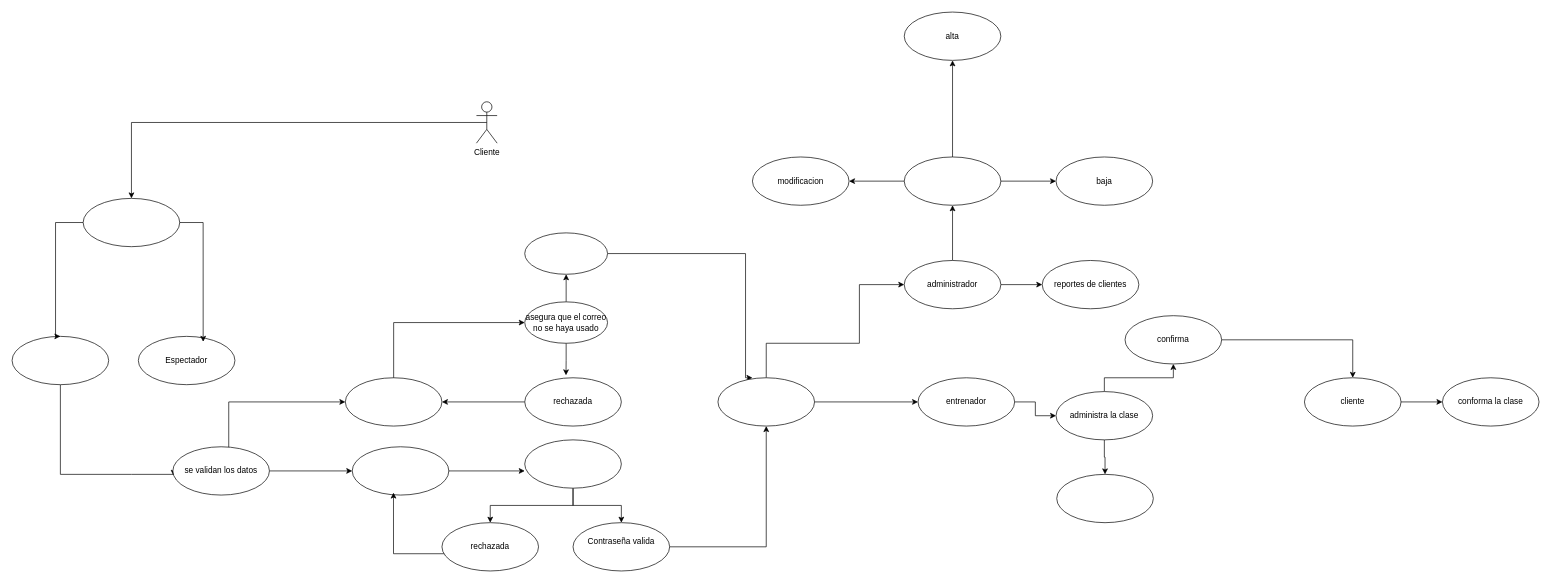
Some shapes in this 1551 by 583 pixel diagram are drawn without their labels. Here are the shapes that lost their labels. From the top down, the centre of each, then its label:
[952,180]: gentiona al cliente
[131,222]: Plataforma
[566,253]: confirma el correo
[60,360]: Registra en el sistema
[393,401]: paso1 correo electronico
[766,401]: confirmacion de datos
[400,470]: paso 2 contraseña
[572,463]: Que cumpla con los requisitos de caracteristicas
[1104,498]: cancela
